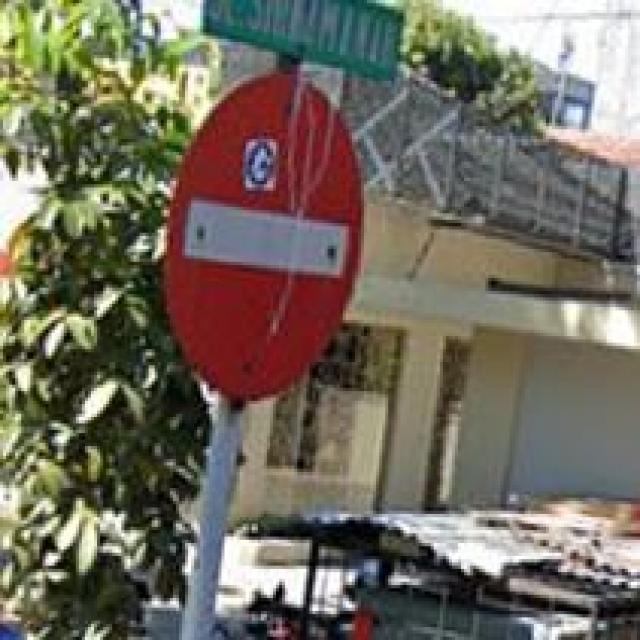traffic sign: (164, 74, 364, 404)
